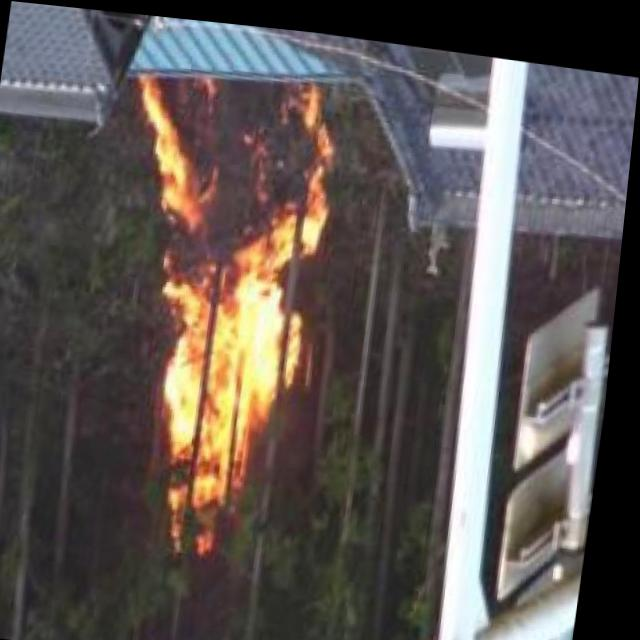Fire: (97, 56, 344, 532)
